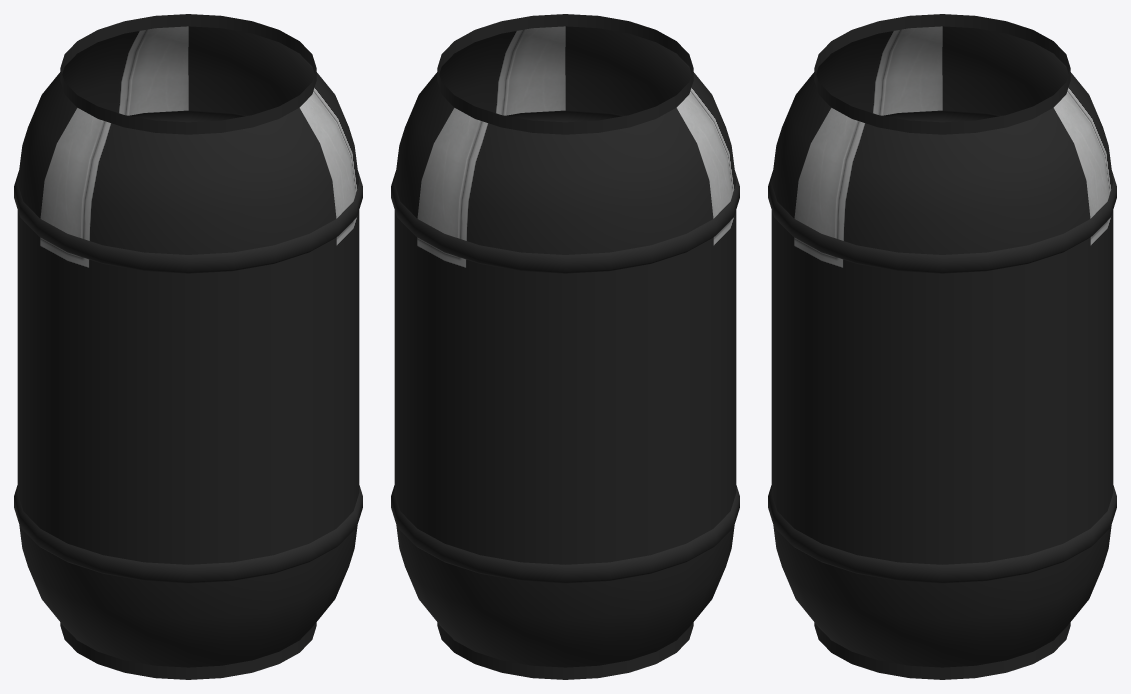
The model's file is mira_crew_s1_1.obj.
3 views of the same model, side by side, from view 1: azimuth 30°, elevation 25°; view 2: azimuth 150°, elevation 25°; view 3: azimuth 270°, elevation 25° (orthographic).
Visible parts, largest first — view 1: mira_crew_s1_1; view 2: mira_crew_s1_1; view 3: mira_crew_s1_1.
Boxes of the visible parts, left/top/right/bottom form: mira_crew_s1_1: left=14, top=14, right=362, bottom=679; mira_crew_s1_1: left=391, top=14, right=739, bottom=679; mira_crew_s1_1: left=768, top=14, right=1116, bottom=679.
Size of the model in its own units: 1.27 by 2.25 by 1.27.
